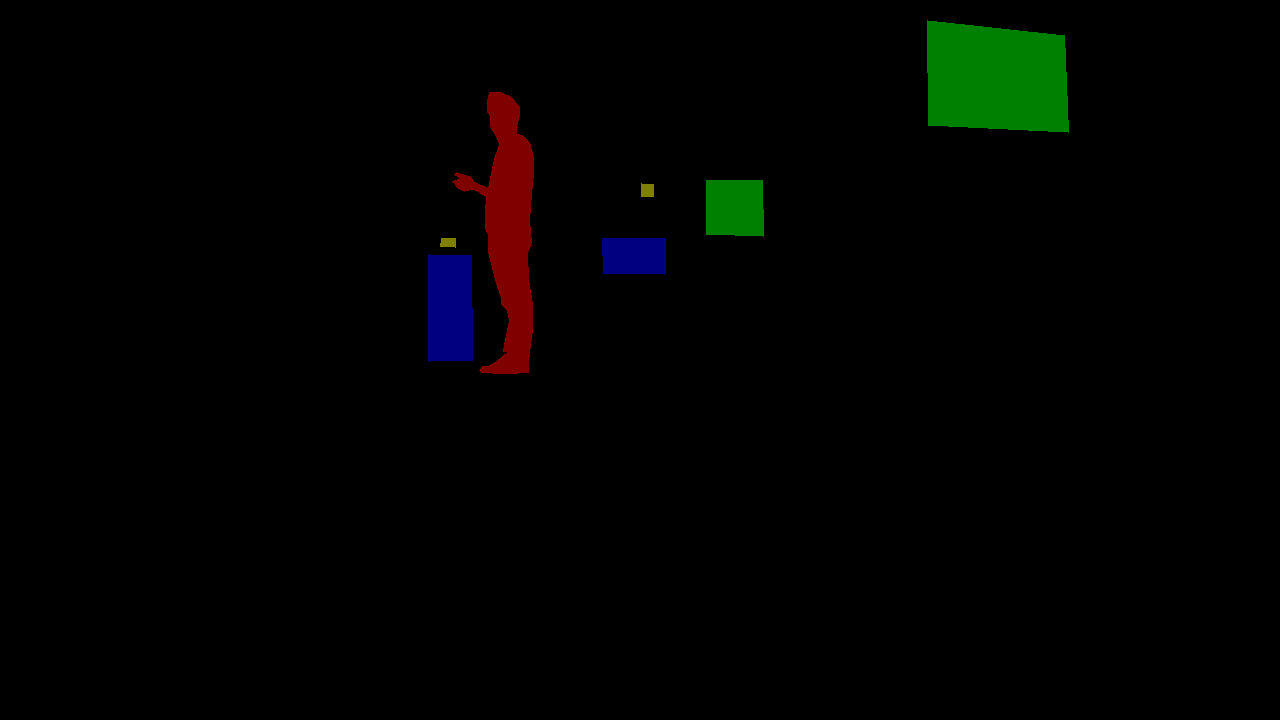door: (428, 254, 472, 361)
person: (452, 92, 533, 373)
sign: (641, 183, 653, 196), (440, 238, 455, 247)
tvmonitor: (927, 20, 1068, 132), (706, 180, 763, 236), (602, 238, 665, 274)
